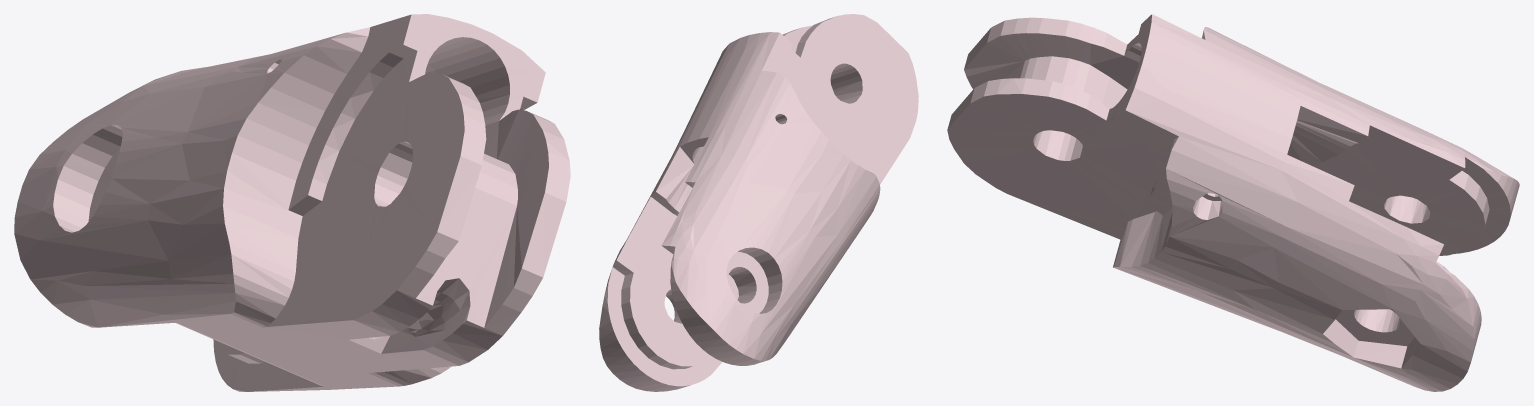
The model's file is i02_leftHand_majeureMid_visual.obj.light.glb.
3 views of the same model, side by side, from view 1: azimuth 30°, elevation 25°; view 2: azimuth 150°, elevation 25°; view 3: azimuth 270°, elevation 25° (orthographic). The views are drawn at different scales.
Size of the model in its own units: 0.1774 by 0.2775 by 0.393.
